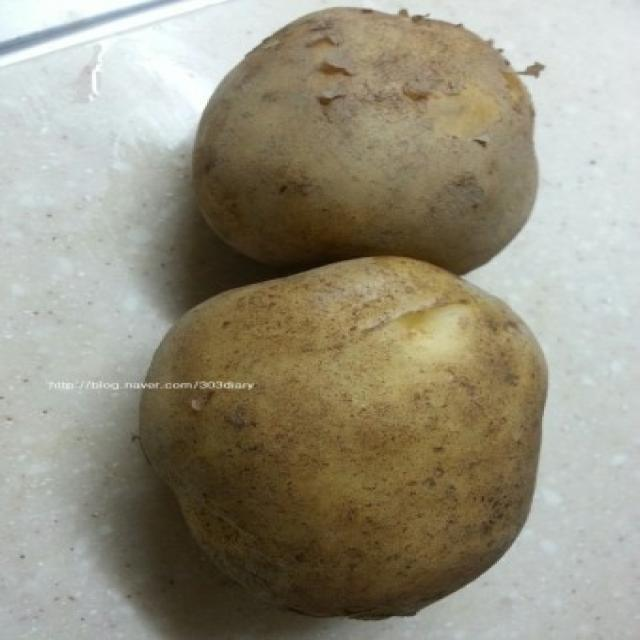potato: (137, 248, 551, 626), (185, 6, 546, 280)
